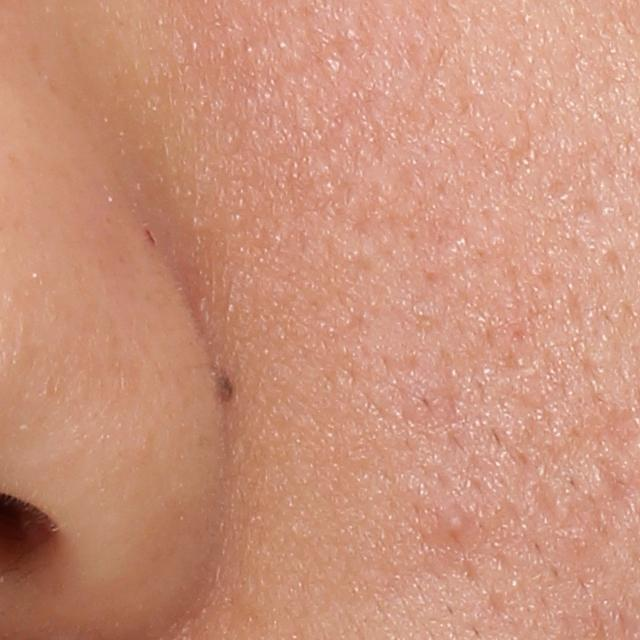nevus: (218, 368, 233, 400)
papule: (439, 507, 470, 535)
